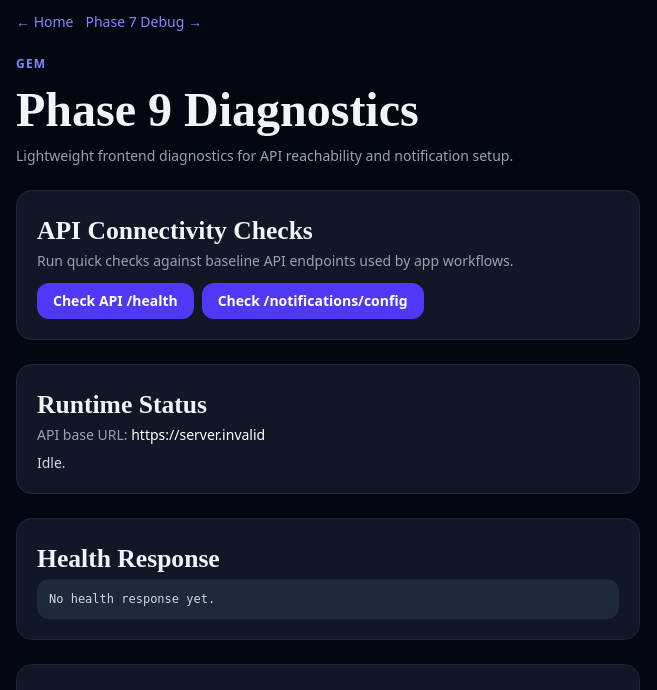
Scenario: Phase9DiagnosticsPage › shows notification config errors
This screenshot has width=657, height=690.
Click the button "Check /notifications/config" at (313, 301), box [202,283,424,319]
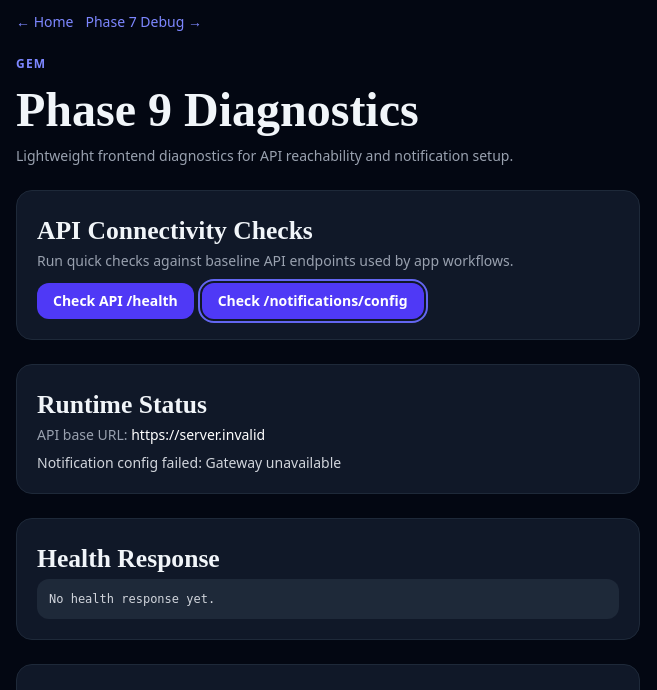
Now the text "Notification config failed: Gateway unavailable" is shown, box [37,453,341,472]
